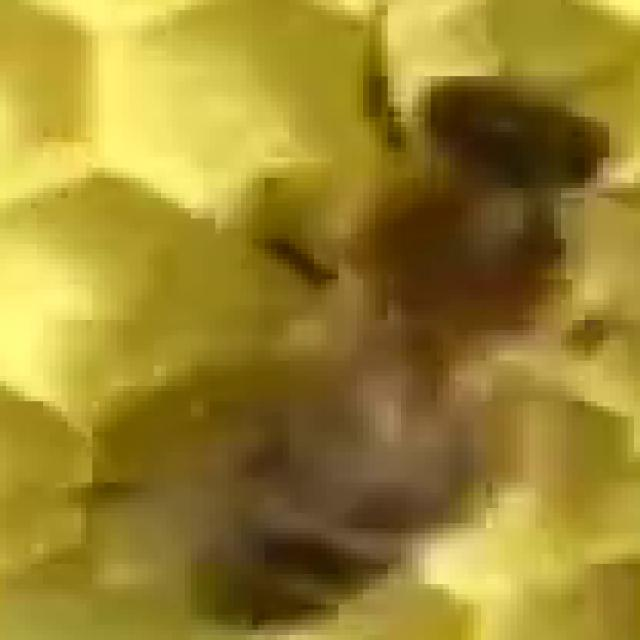honeybee: (166, 49, 586, 566)
